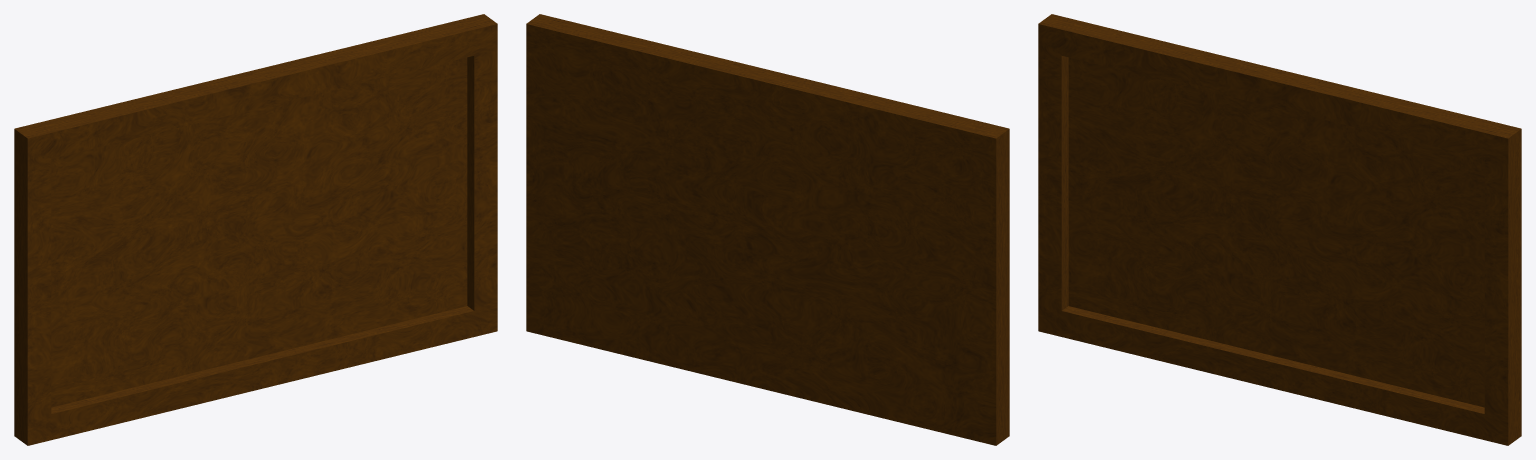
The model's file is OrderDesk.fbx.
3 renders of one model, left to right at view 1: azimuth 30°, elevation 25°; view 2: azimuth 150°, elevation 25°; view 3: azimuth 330°, elevation 25°, orthographic.
Visible parts, largest first — view 1: OrderDesk; view 2: OrderDesk; view 3: OrderDesk.
Boxes of the visible parts, bbox=[...] form: OrderDesk: bbox=[14, 14, 497, 445]; OrderDesk: bbox=[526, 14, 1009, 445]; OrderDesk: bbox=[1038, 14, 1521, 445].
Size of the model in its own units: 200 by 125 by 10.
1 material, 1 textured.
